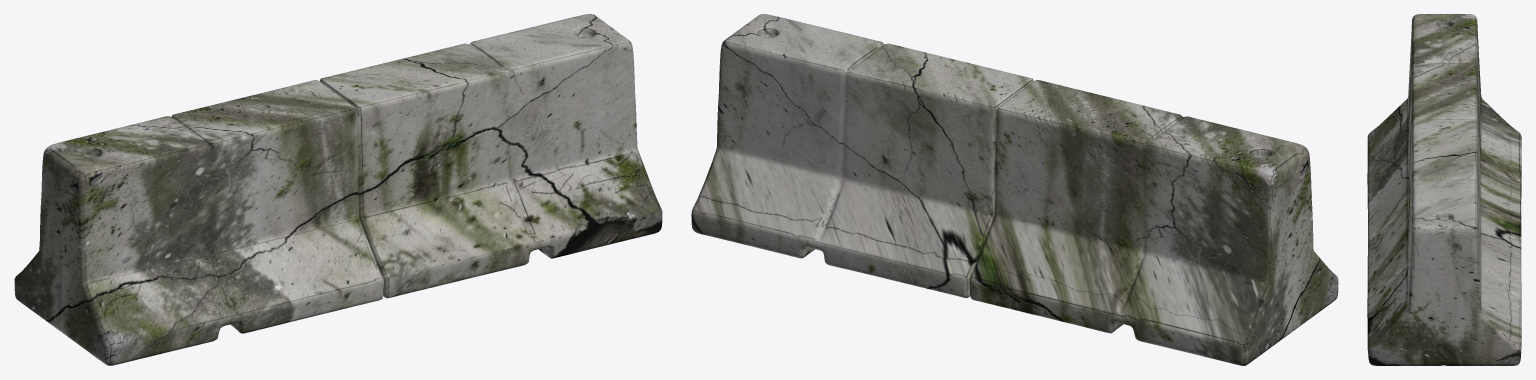
3 renders of one model, left to right at view 1: azimuth 30°, elevation 25°; view 2: azimuth 150°, elevation 25°; view 3: azimuth 270°, elevation 25°, orthographic. The views are drawn at different scales.
Visible parts, largest first — view 1: source; view 2: source; view 3: source.
Part boxes in pixels (<box>): source: <box>14,14,662,365</box>; source: <box>691,14,1338,365</box>; source: <box>1367,14,1521,365</box>.
Size of the model in its own units: 1.91 by 0.5701 by 0.5722.
1 material, 1 textured.
